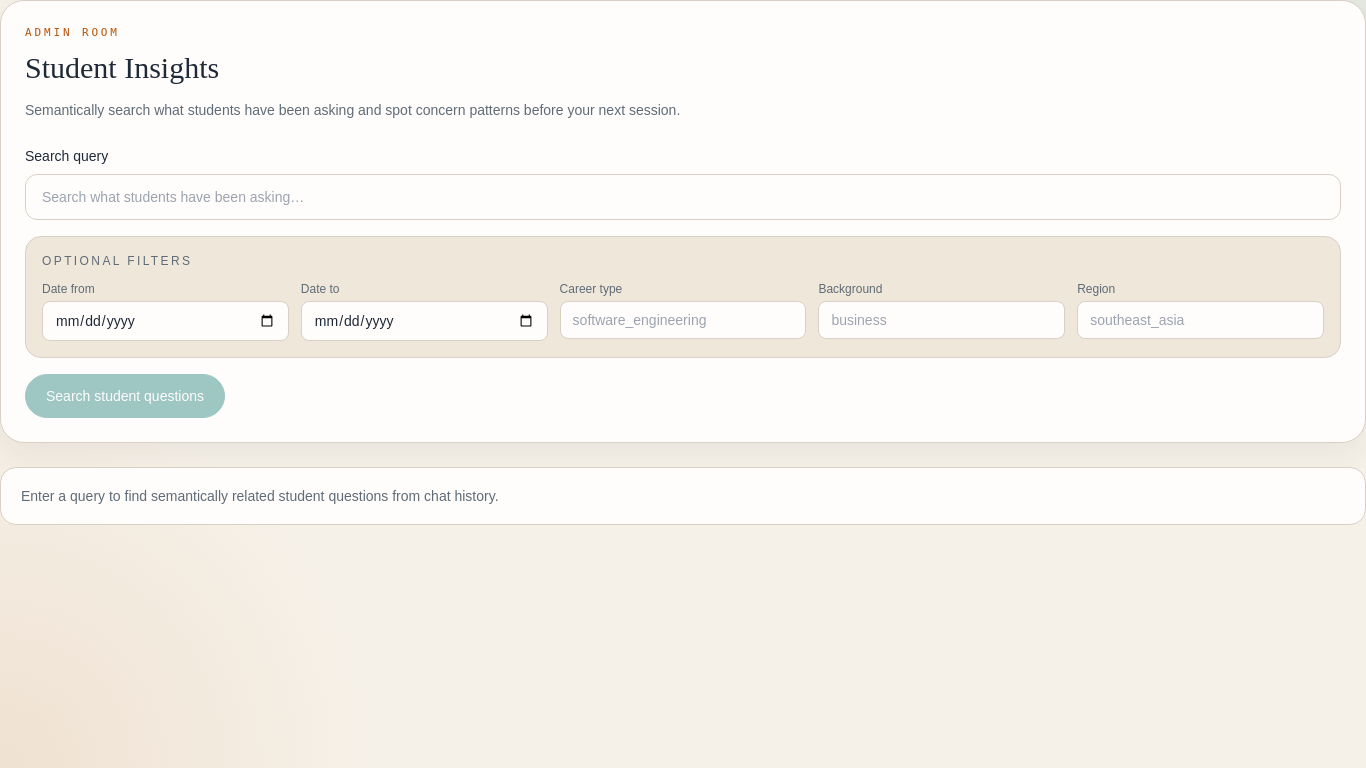
Test: StudentInsightsTab › renders error state when the request fails
Type "visa concerns" into the field labelled "Search query" at (683, 196), box x1=25 y1=174 x2=1341 y2=220
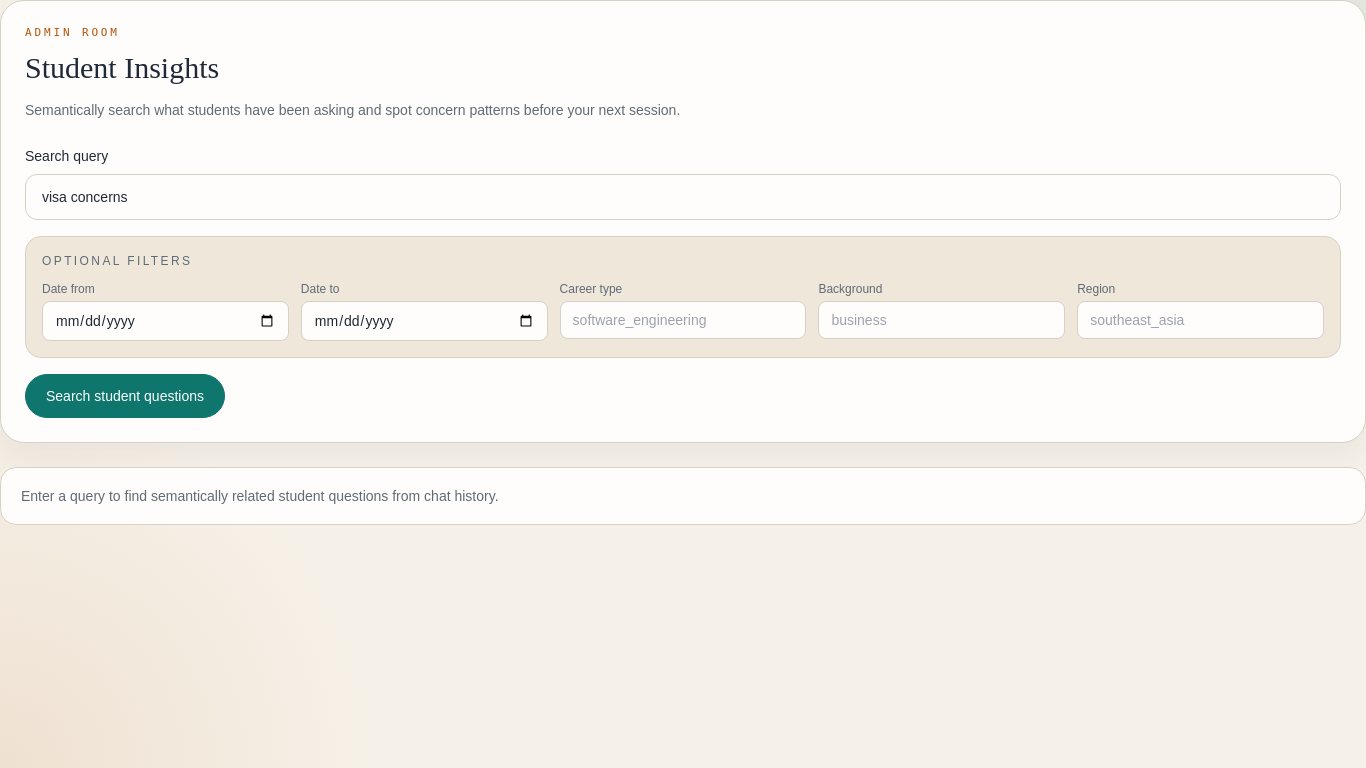
Click the button "Search student questions" at (125, 396), box x1=25 y1=374 x2=225 y2=418
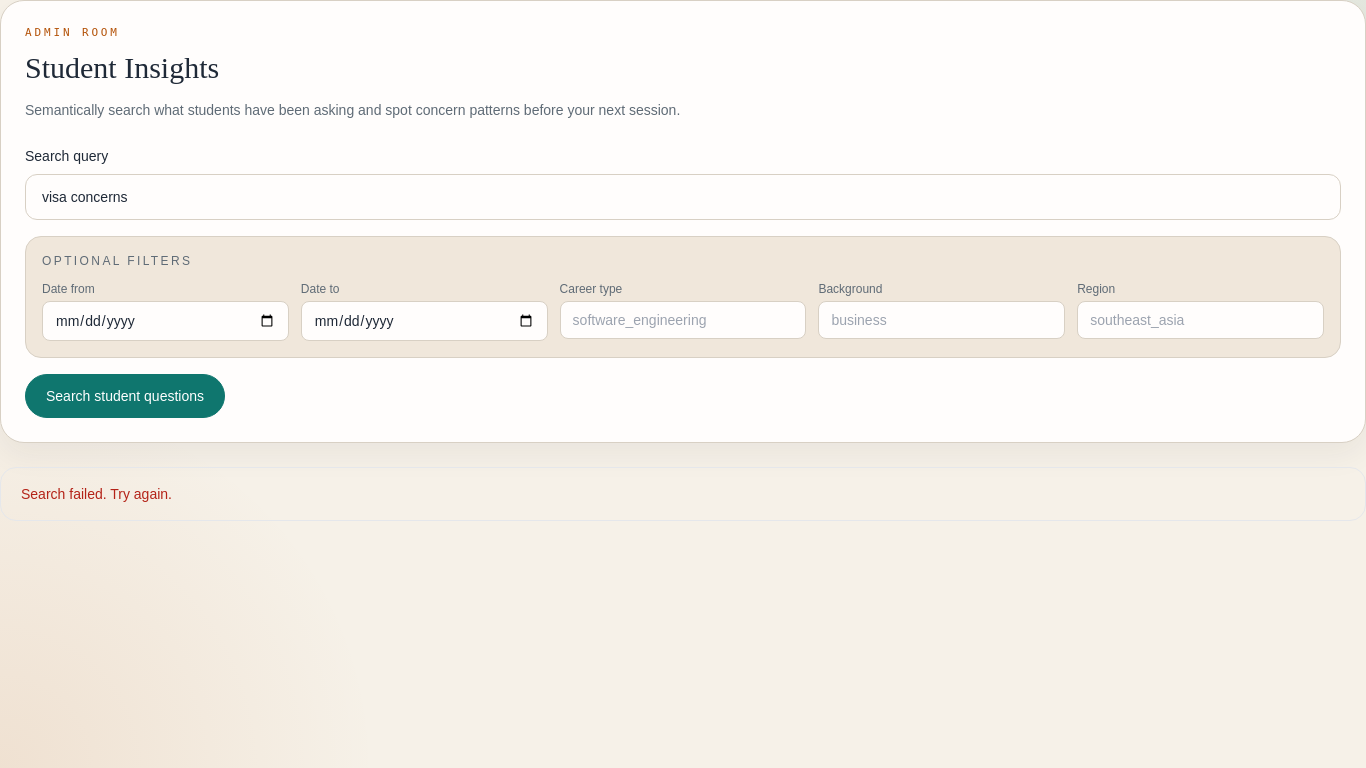
Result: the text "Search failed. Try again." is shown at x1=0 y1=466 x2=1365 y2=520
